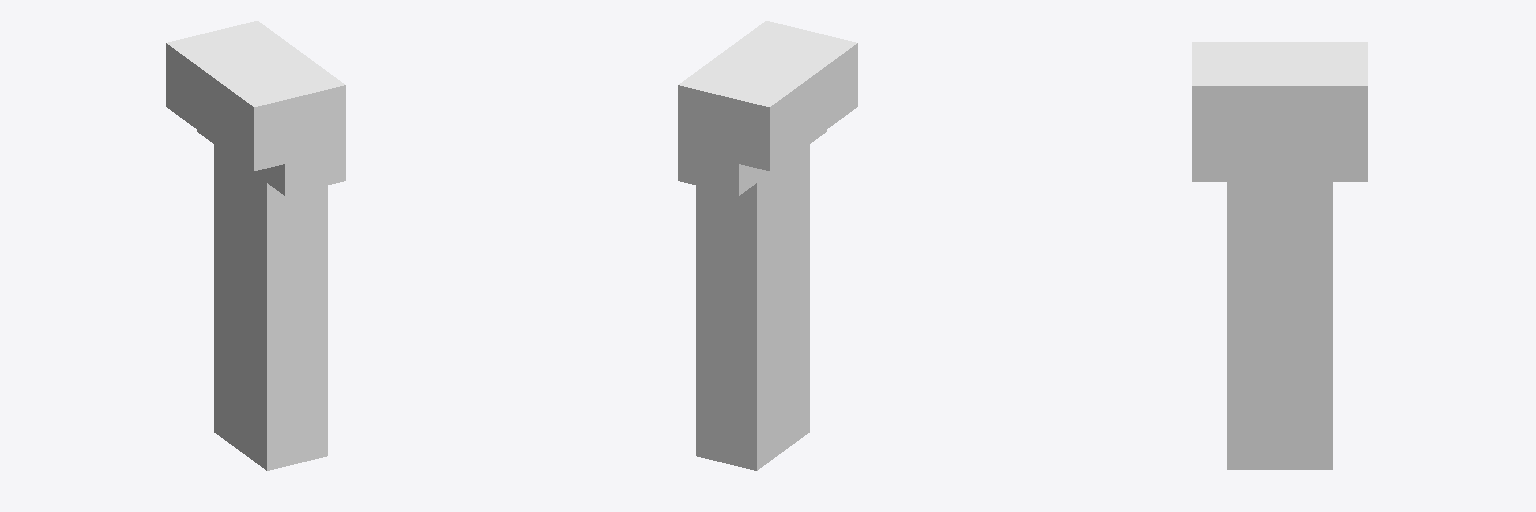
The model's file is BrazoIzq.obj.
The picture shows the model from 3 angles: view 1: azimuth 30°, elevation 25°; view 2: azimuth 150°, elevation 25°; view 3: azimuth 270°, elevation 25°; orthographic projection.
Parts seen in each view (by area): view 1: object 1; view 2: object 1; view 3: object 1.
Part boxes in pixels (left/top/right/bottom): object 1: left=166, top=21, right=345, bottom=470; object 1: left=678, top=21, right=857, bottom=470; object 1: left=1192, top=42, right=1367, bottom=469.
Bounding box in the file's own units: 0.3 × 1.2 × 0.5.